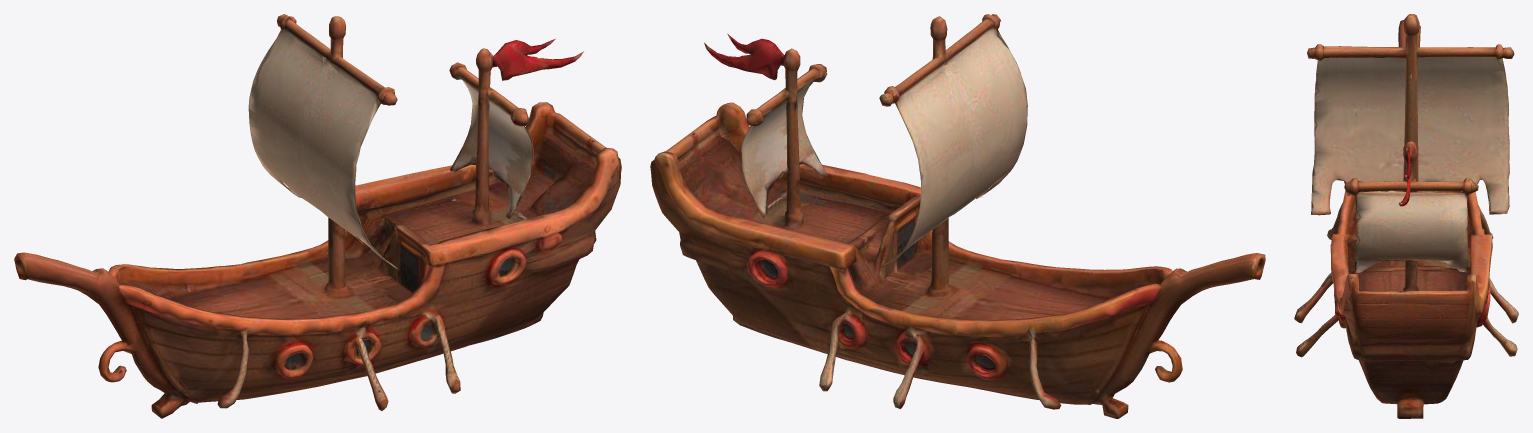
The picture shows the model from 3 angles, left to right: view 1: azimuth 30°, elevation 25°; view 2: azimuth 150°, elevation 25°; view 3: azimuth 270°, elevation 25°; orthographic projection. The views are drawn at different scales.
Size of the model in its own units: 2 by 1.18 by 0.7404.
1 material, 1 textured.
